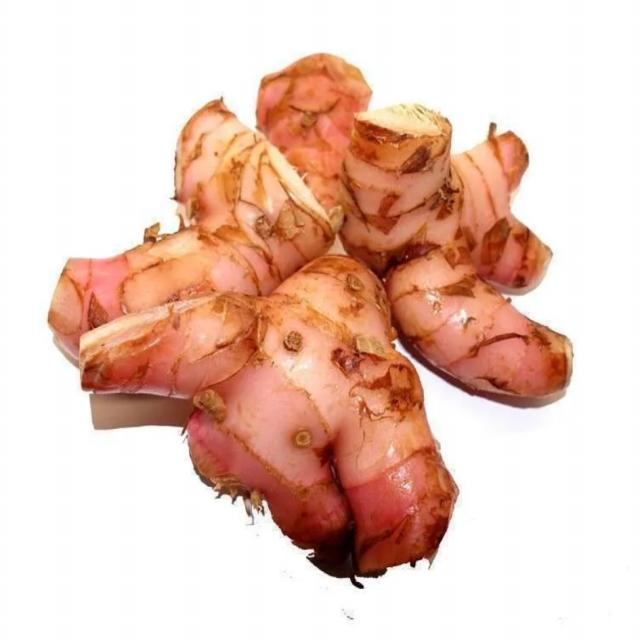ginger: (63, 52, 538, 528)
